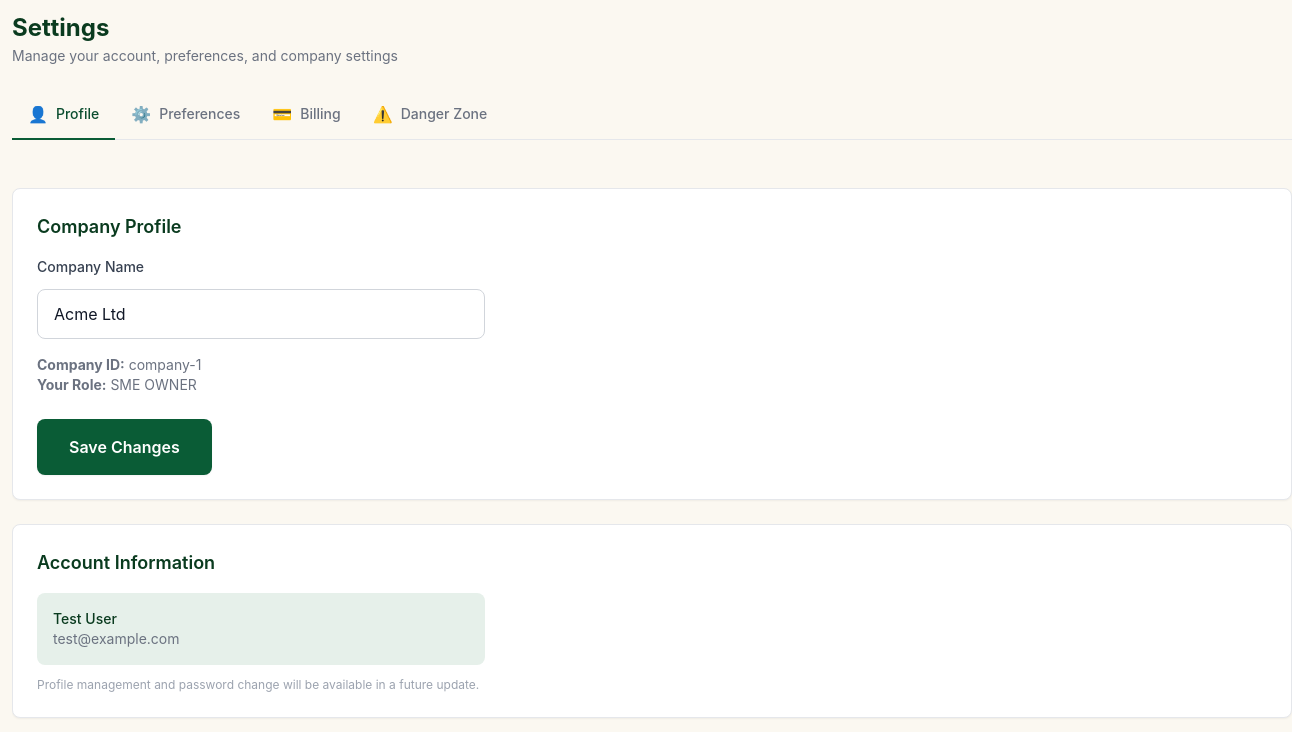
Settings Page › switches to Danger Zone tab when clicked
This screenshot has width=1292, height=732.
Click the text "Danger Zone" at (444, 114), box x1=401 y1=104 x2=487 y2=124
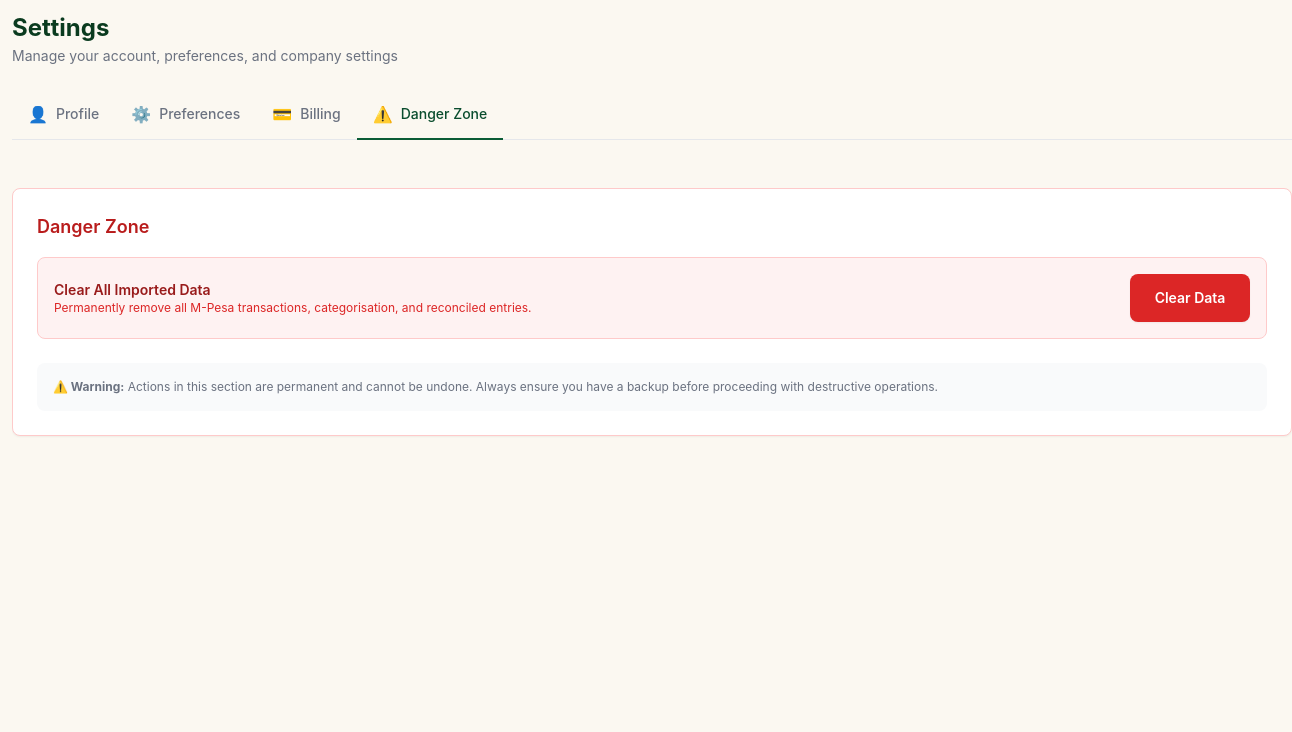
Expected: the text "Clear All Imported Data" is shown, x1=54 y1=281 x2=211 y2=298
Expected: the button "Clear Data" is shown, x1=1130 y1=274 x2=1250 y2=322
